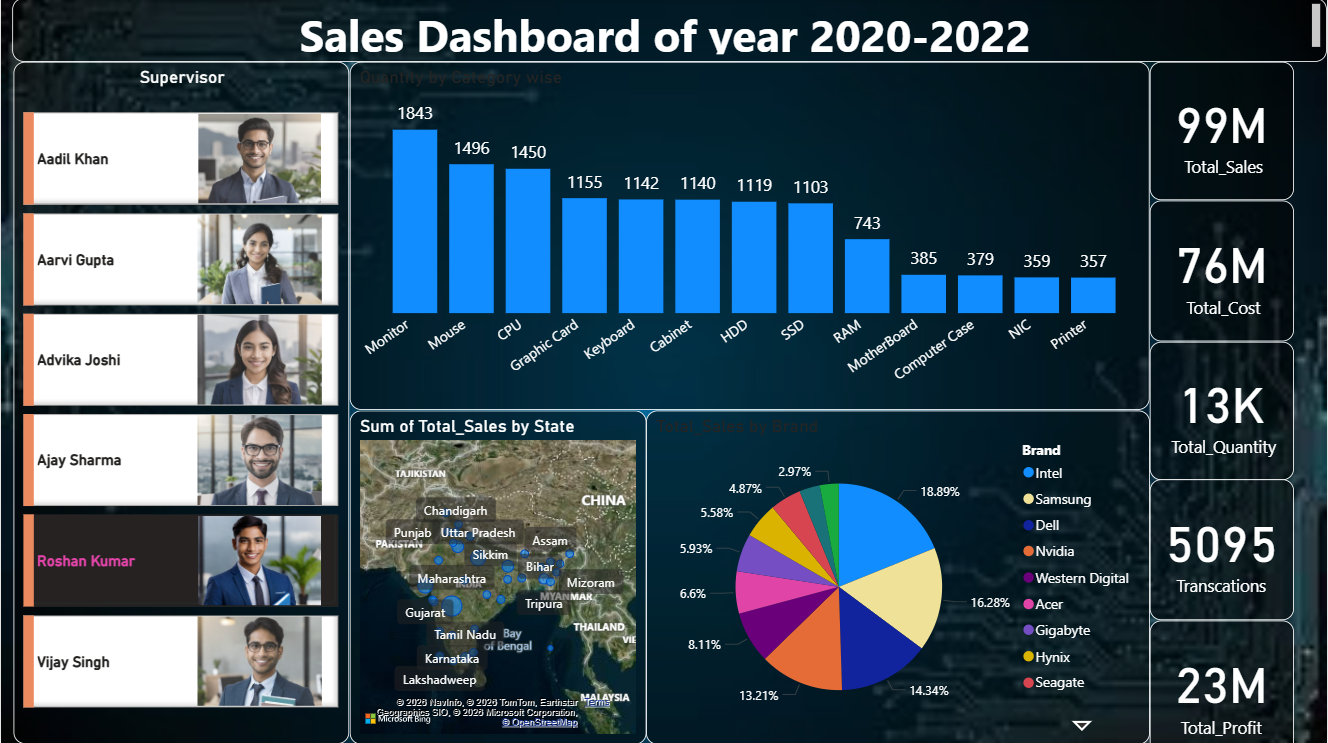

The page's visual inventory and layout, read from the dashboard file:
{"tool":"powerbi","page":{"name":"Page 1","canvas":[1280,720],"ordinal":0},"visuals":[{"type":"textbox","box":[10.7,0,1269,61.4],"z":0},{"type":"card","fields":{"Values":["Sum(Sales_Data.Total_Sales)"]},"box":[1108.7,61.4,138.9,133.6],"z":1000},{"type":"card","fields":{"Values":["Sum(Sales_Data.Total_Cost)"]},"box":[1108.7,195,138.9,136.2],"z":2000},{"type":"card","fields":{"Values":["Sum(Sales_Data.Quantity)"]},"box":[1108.7,331.3,138.9,133.6],"z":3000},{"type":"card","fields":{"Values":["CountNonNull(Sales_Data.Order_Number)"]},"box":[1108.7,464.8,138.9,136.2],"z":4000},{"type":"card","fields":{"Values":["Sales_Data.Total_Profit"]},"box":[1108.7,601.1,138.9,136.2],"z":5000},{"type":"clusteredColumnChart","title":" Quantity by Category wise","fields":{"Y":["Sum(Sales_Data.Quantity)"],"Category":["Sales_Data.Category"]},"box":[336,62,772,336],"z":6000},{"type":"pieChart","fields":{"Y":["Sum(Sales_Data.Total_Sales)"],"Category":["Sales_Data.Brand"]},"box":[622,398,486,322],"z":7000},{"type":"map","fields":{"Category":["State_list.State"],"Size":["Sum(Sales_Data.Total_Sales)"]},"box":[336,398,286,322],"z":8000},{"type":"advancedSlicerVisual","fields":{"Values":["Supervisor.Supervisor"]},"box":[12,62,324,658],"z":8001}]}

Visuals, with their boxes in screenshot pixels (x1, y1, x2, y2), scaled from the page's 1280x720 canvas onto the 1328x743 screenshot:
textbox: 11/0/1327/63
card - Sum(Sales_Data.Total_Sales): 1150/63/1294/201
card - Sum(Sales_Data.Total_Cost): 1150/201/1294/342
card - Sum(Sales_Data.Quantity): 1150/342/1294/480
card - CountNonNull(Sales_Data.Order_Number): 1150/480/1294/620
card - Sales_Data.Total_Profit: 1150/620/1294/742
" Quantity by Category wise" clusteredColumnChart: 349/64/1150/411
pieChart - Sum(Sales_Data.Total_Sales) x Sales_Data.Brand: 645/411/1150/742
map - State_list.State x Sum(Sales_Data.Total_Sales): 349/411/645/742
advancedSlicerVisual - Supervisor.Supervisor: 12/64/349/742
